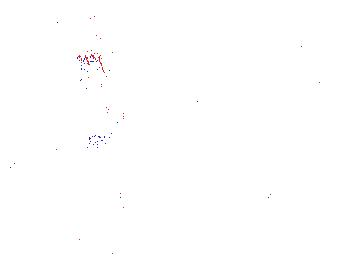flame jellyfish: (66, 53, 126, 150), (31, 144, 96, 211), (83, 164, 143, 216)
